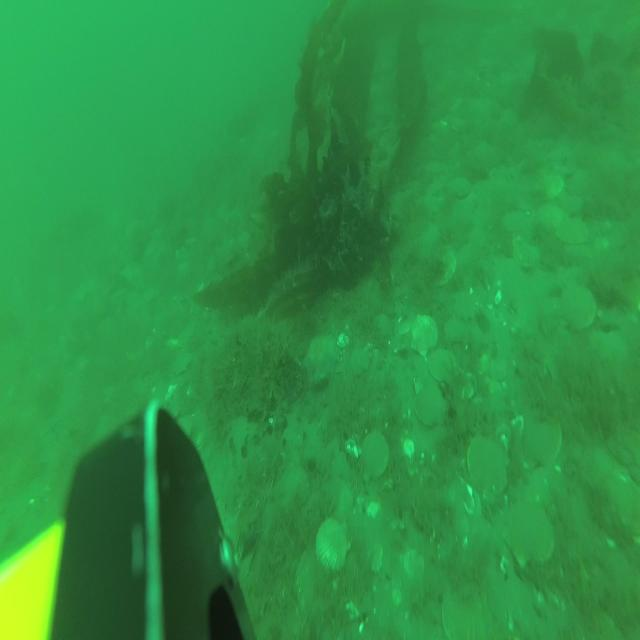scallop: (504, 495, 550, 564), (521, 406, 564, 474), (295, 550, 336, 620), (441, 583, 490, 640), (468, 435, 505, 500), (317, 516, 351, 575), (563, 281, 597, 337), (414, 382, 446, 434), (362, 424, 389, 478), (557, 215, 593, 254), (278, 470, 308, 515), (514, 233, 545, 273), (411, 312, 437, 358), (455, 283, 484, 322), (449, 173, 473, 204), (540, 169, 562, 199), (170, 352, 192, 379)
starfish: (305, 331, 337, 384)
